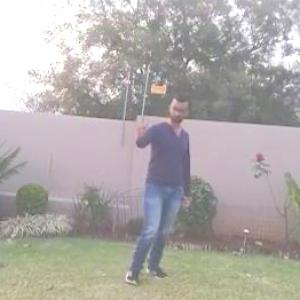takeoff-hand: (130, 109, 154, 141)
